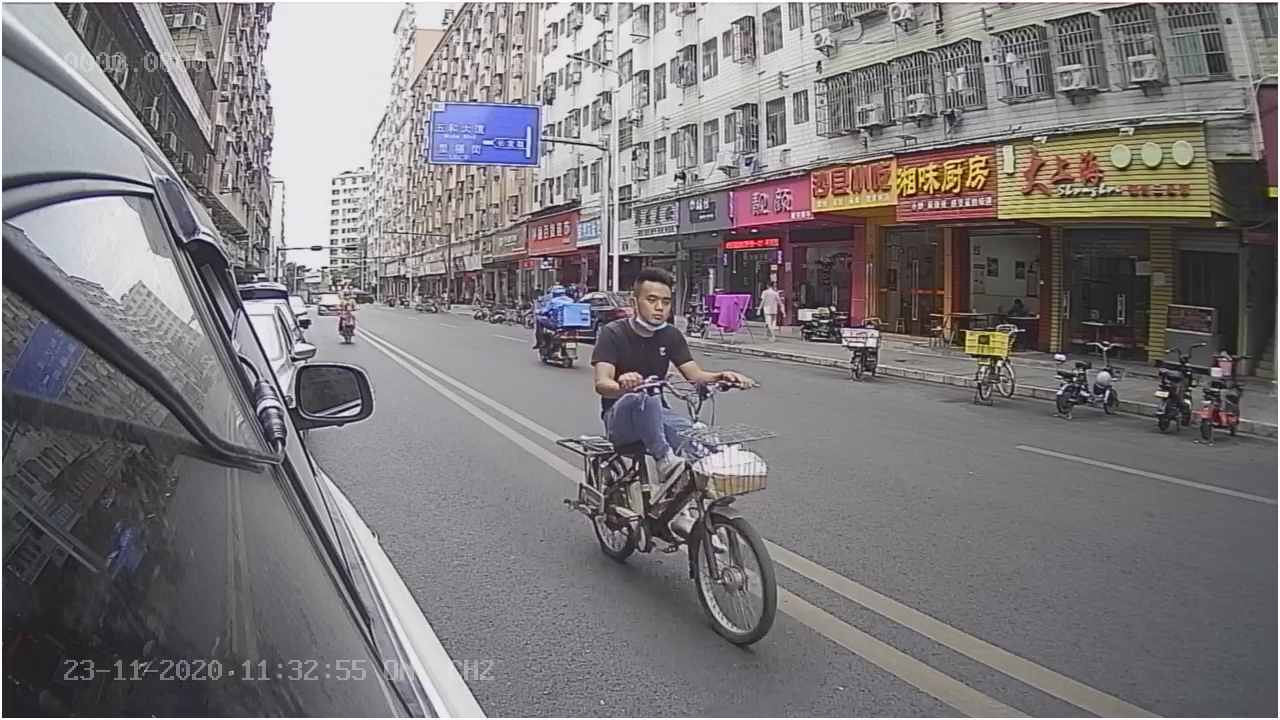person: (583, 252, 717, 389)
